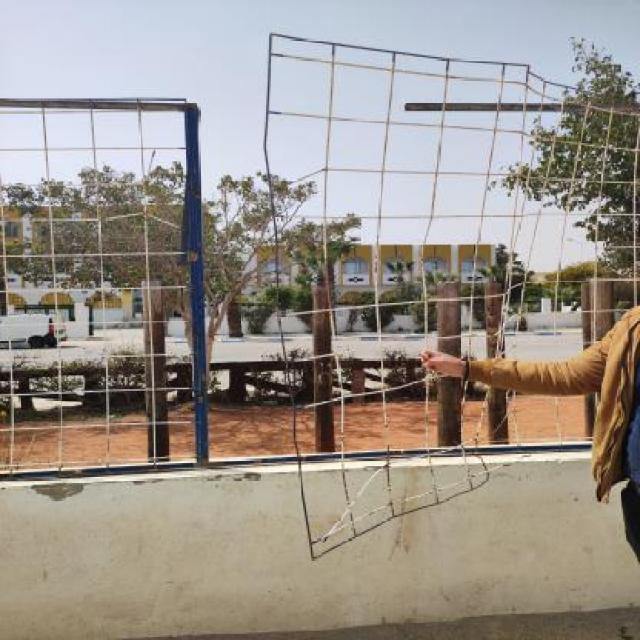fence line: (193, 118, 356, 459)
